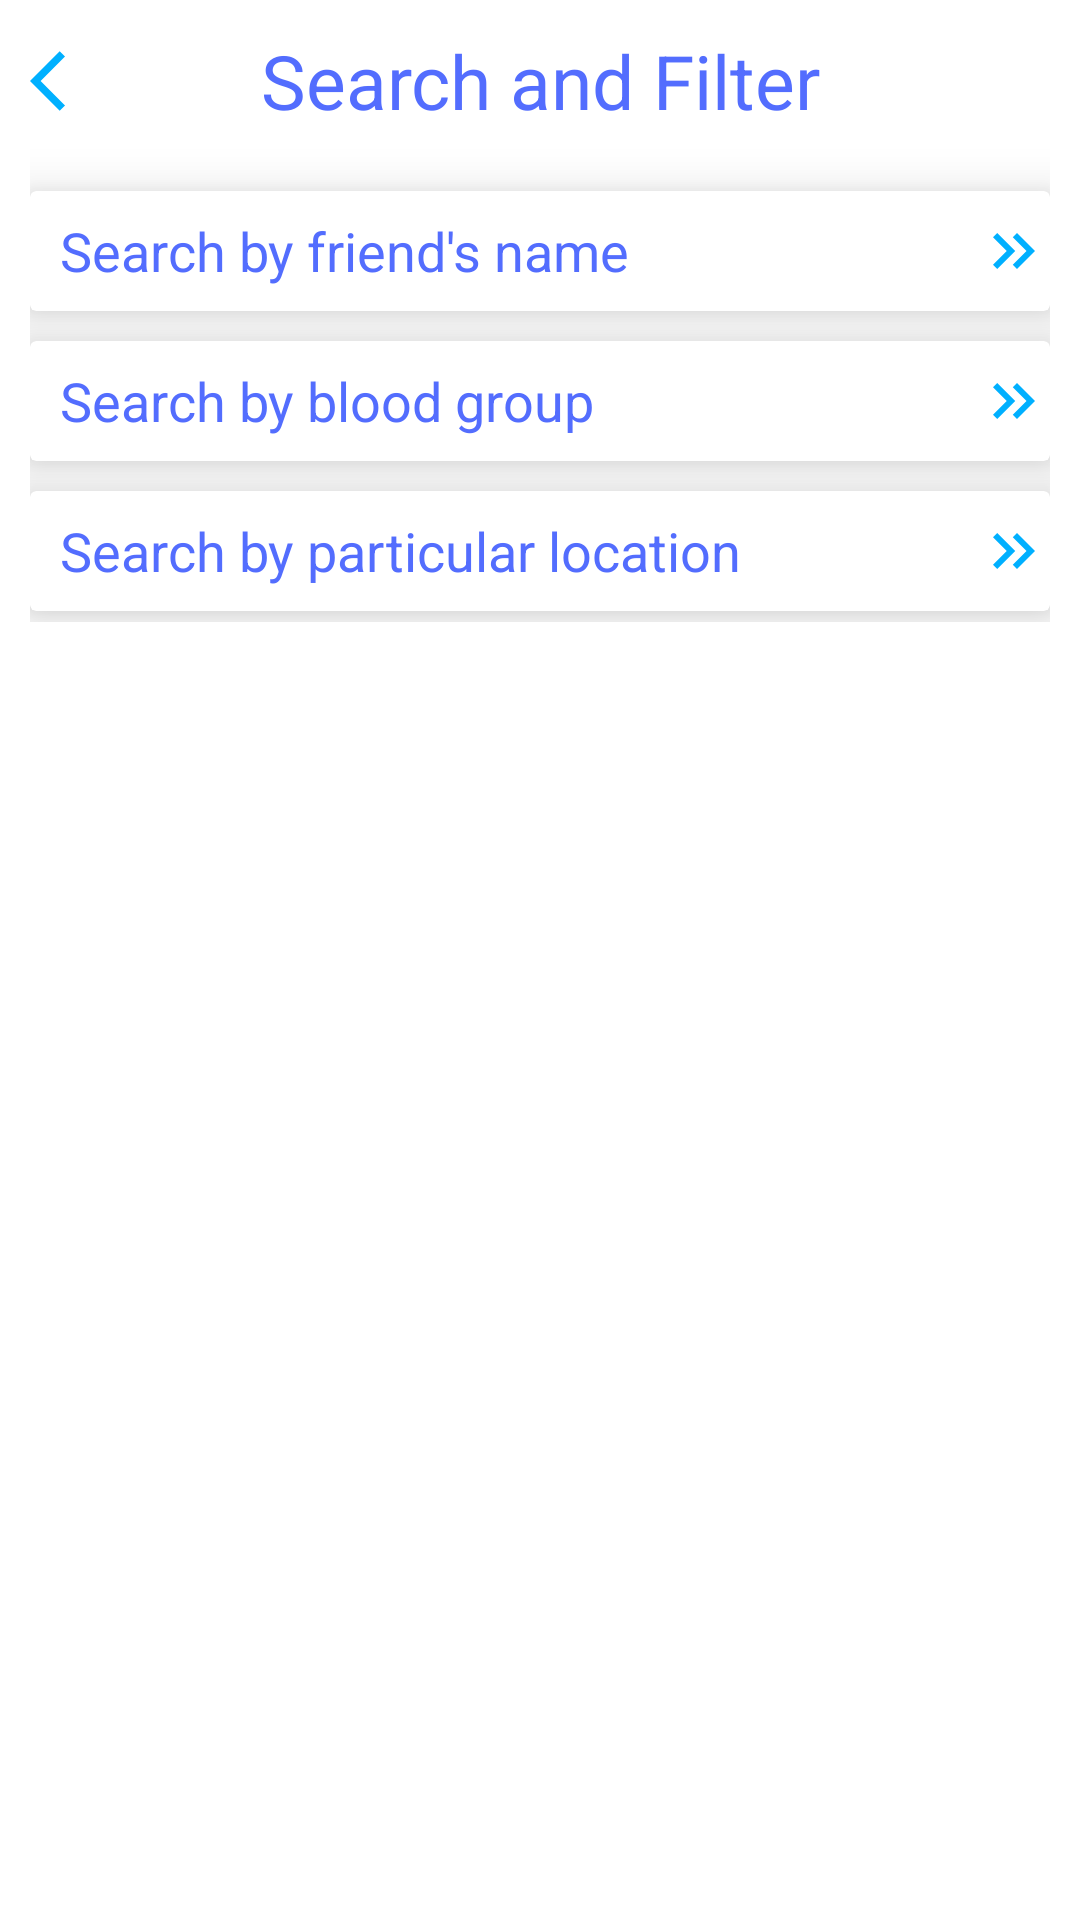

Screen size 1080×1920. Icon name, then its box in pixels as (x1, y1, x2, y2):
arrow back: (30, 51, 65, 111)
keyboard double arrow right: (993, 233, 1035, 269), (993, 383, 1035, 419), (993, 533, 1035, 569)
